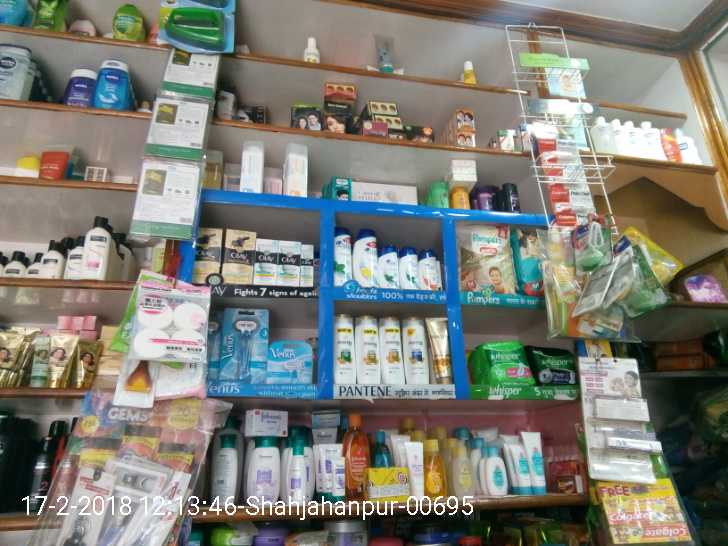venus: (227, 311, 268, 382), (268, 341, 312, 382), (208, 311, 227, 380)
